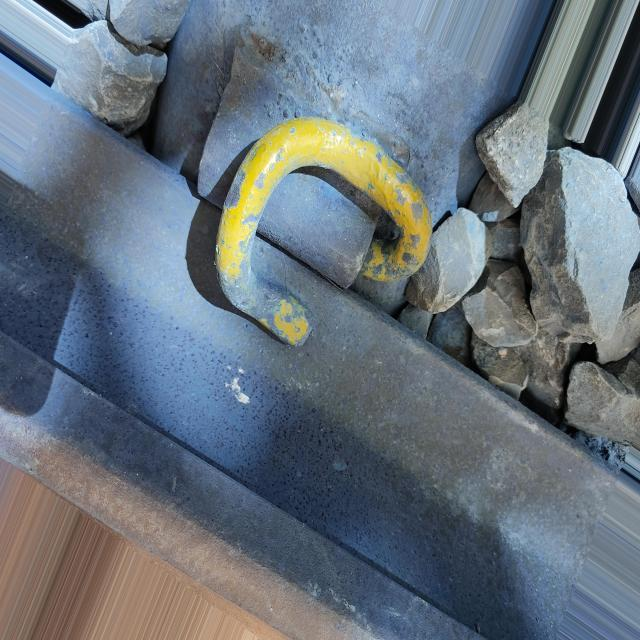Good Fasteners: (180, 27, 440, 390)
